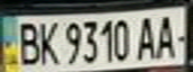0: (112, 16, 133, 62)
1: (96, 17, 115, 63)
3: (78, 17, 100, 65)
9: (60, 17, 84, 66)
A: (151, 11, 184, 60), (133, 12, 160, 61)
B: (12, 18, 42, 66)
K: (36, 18, 60, 66)
